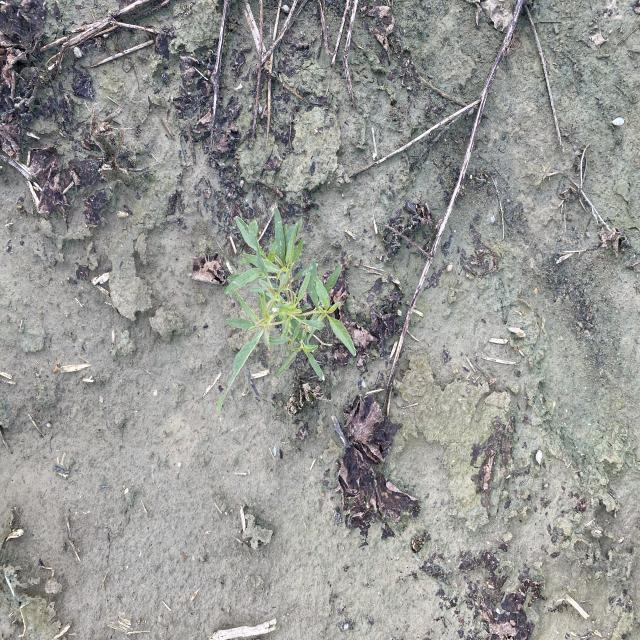Waterhemp: (215, 205, 358, 416)
